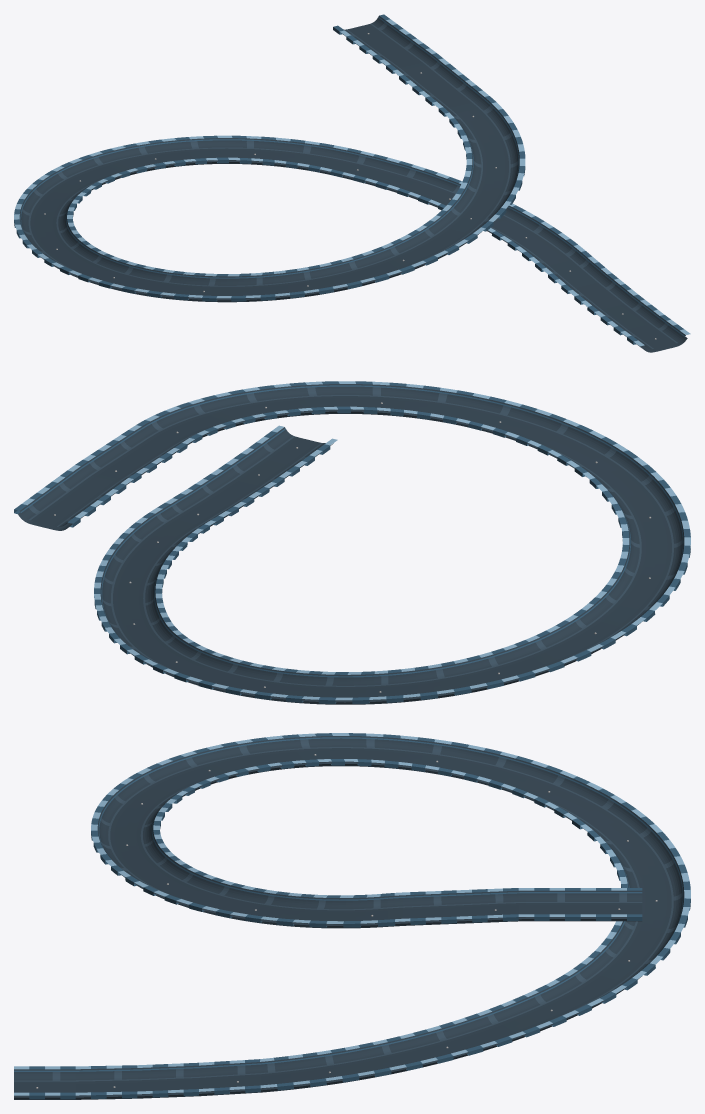
File: block_180_S_R_T3.fbx
3 views of the same model, one above another, from view 1: azimuth 30°, elevation 25°; view 2: azimuth 150°, elevation 25°; view 3: azimuth 270°, elevation 25° (orthographic). The views are drawn at different scales.
Visible parts, largest first — view 1: block_180_S_R_T3; view 2: block_180_S_R_T3; view 3: block_180_S_R_T3.
Part boxes in pixels (x1,y1,x2,y2): block_180_S_R_T3: (14, 14, 690, 352); block_180_S_R_T3: (14, 381, 690, 704); block_180_S_R_T3: (14, 733, 690, 1099).
Size of the model in its own units: 10690 by 3020 by 11084.
